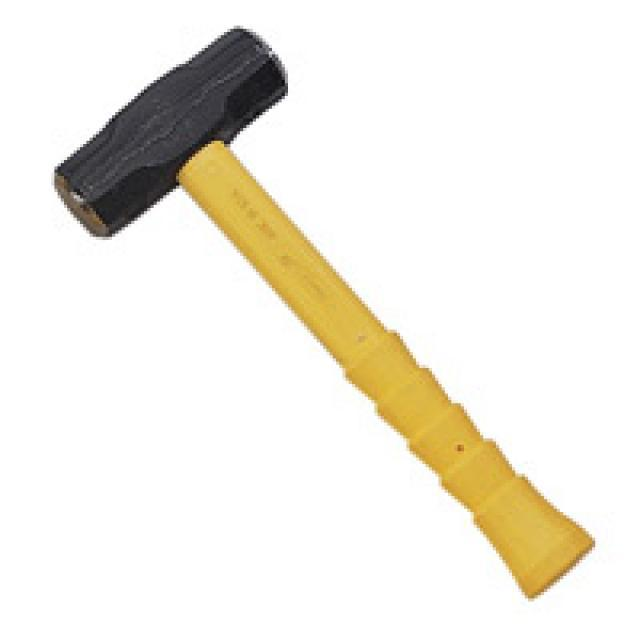hammer: (34, 18, 605, 613)
